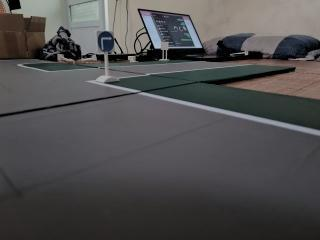right: (94, 28, 118, 53)
